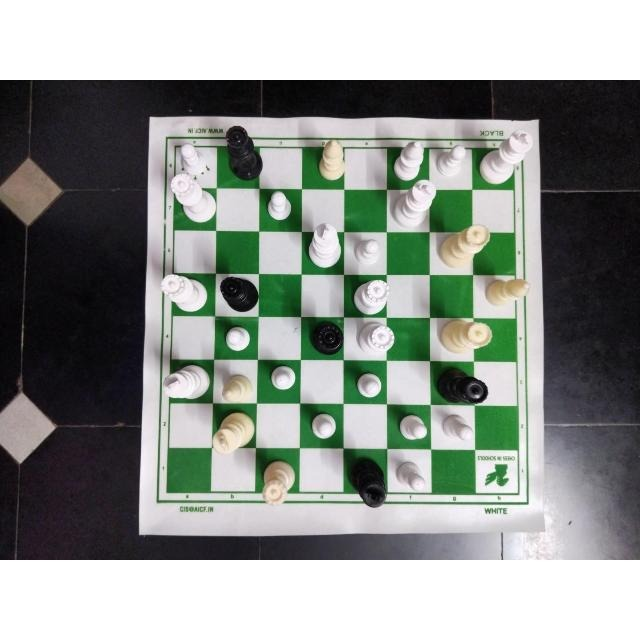black-king: (345, 456, 387, 508)
black-queen: (225, 124, 263, 181), (435, 364, 489, 404), (307, 319, 343, 355), (220, 276, 256, 309)
white-bishop: (484, 278, 530, 309), (392, 140, 423, 182), (318, 138, 346, 182), (221, 374, 253, 404)
white-king: (479, 129, 533, 185), (392, 180, 436, 228), (161, 363, 211, 400), (213, 411, 255, 454), (308, 224, 342, 268)
white-pawn: (436, 144, 468, 178), (440, 412, 475, 443), (395, 460, 428, 492), (265, 188, 295, 220), (179, 143, 207, 175), (398, 414, 428, 442), (307, 411, 337, 439), (353, 237, 381, 267), (354, 371, 383, 399), (268, 364, 297, 392), (224, 323, 252, 351)
white-queen: (170, 174, 218, 224), (439, 223, 491, 269), (160, 274, 212, 313), (437, 318, 492, 353), (261, 459, 297, 507), (353, 278, 391, 315), (357, 322, 397, 354)
